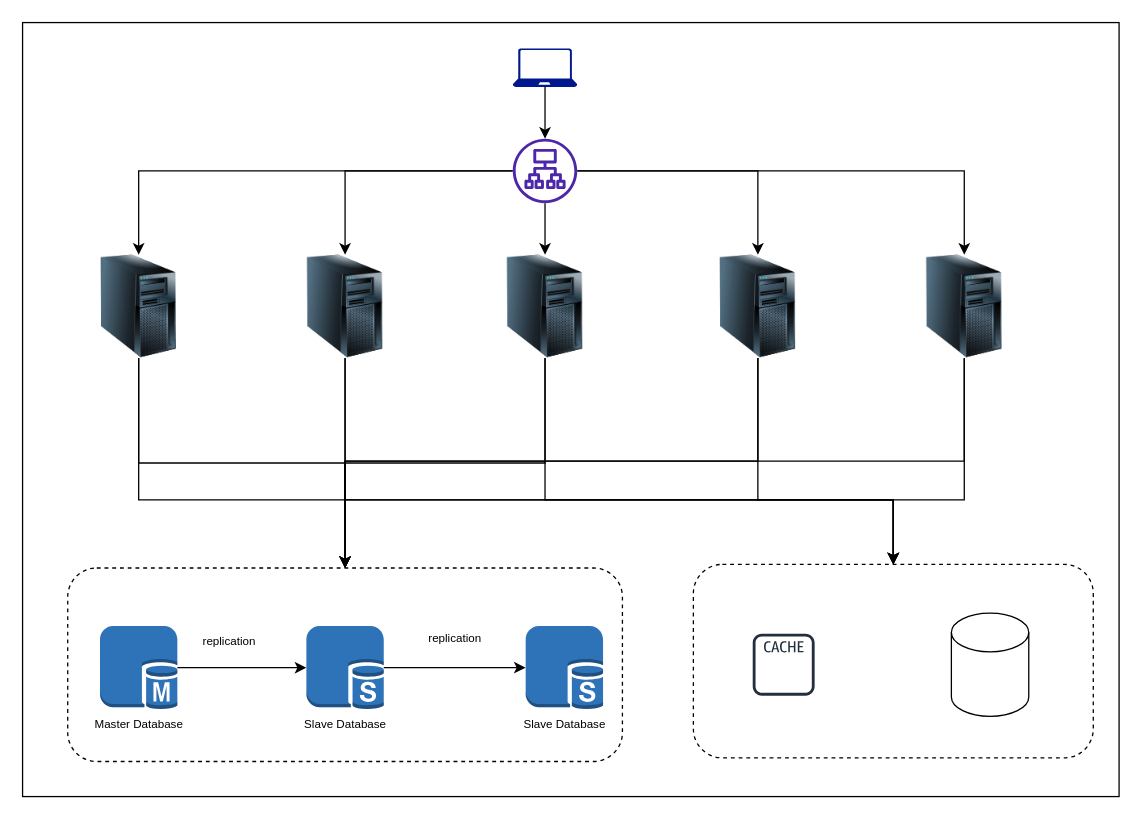
The diagram is 1142 pixels wide and 819 high, and some of its shapes have lost their labels. Here are the shapes that lost their labels. From the top down, the box of each, then its label:
(744, 625, 822, 703): Cache Layer
(950, 612, 1029, 716): User Session Data
